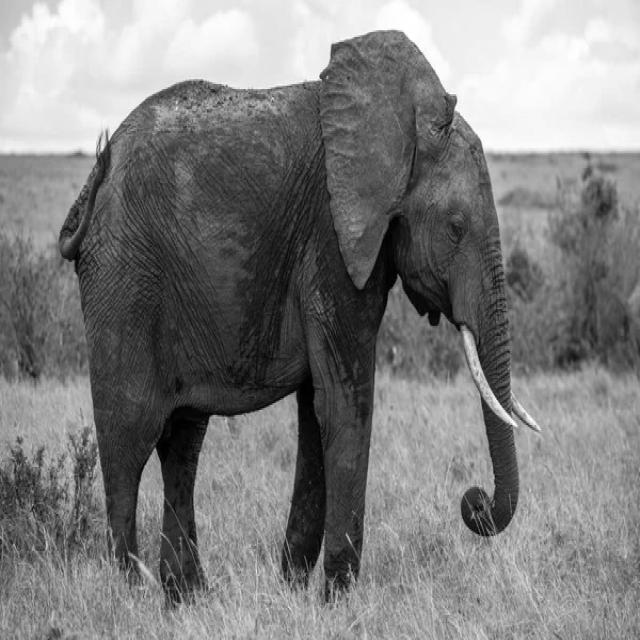Animal: (58, 30, 540, 601)
